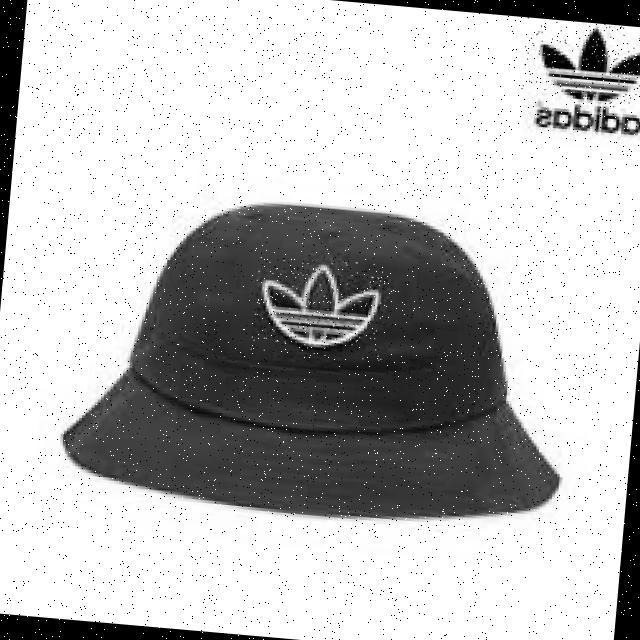Adidas: (250, 254, 389, 361), (520, 17, 640, 111)
